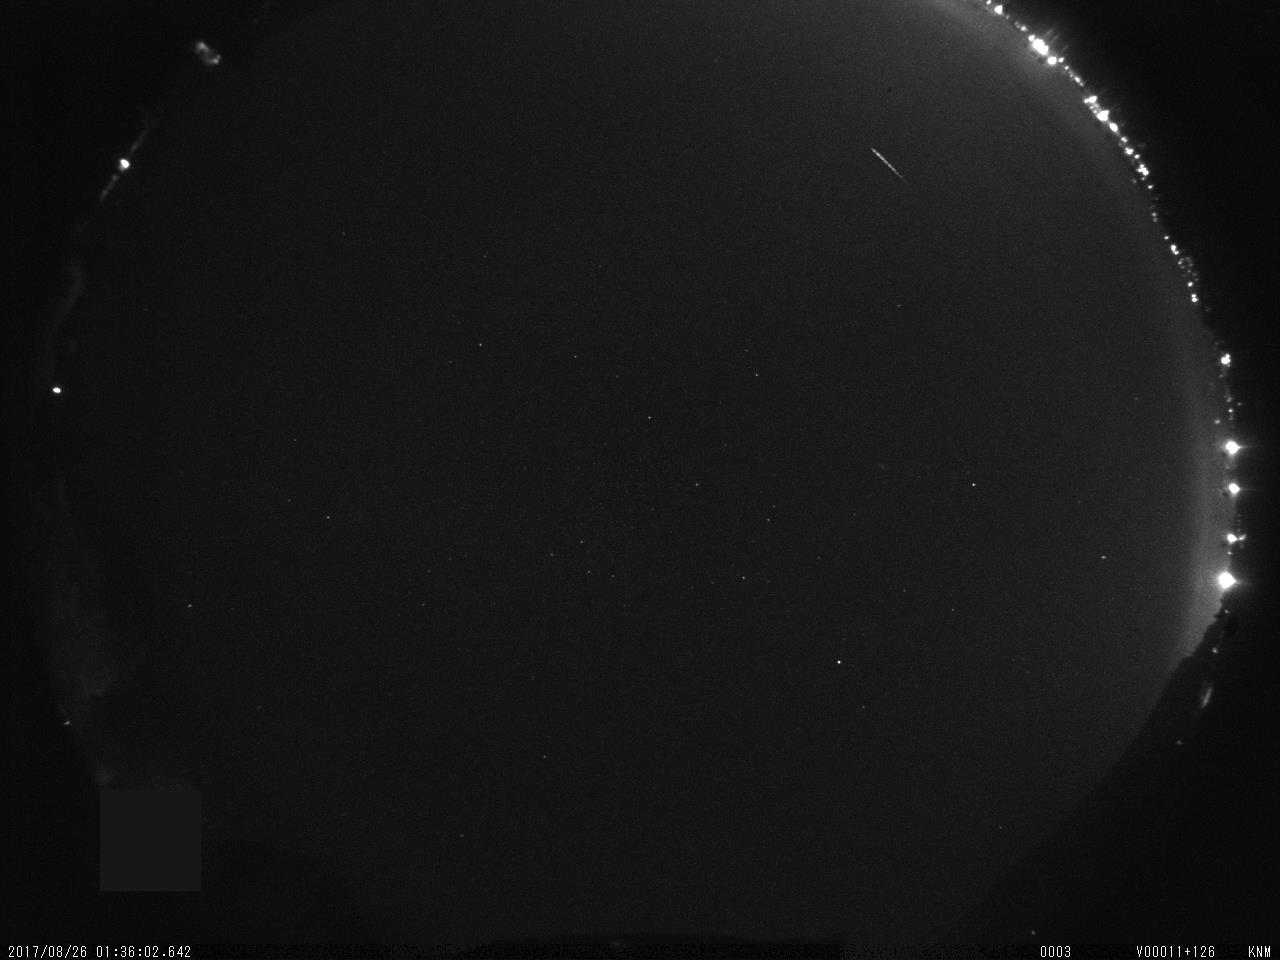meteor: (850, 130, 928, 205)
